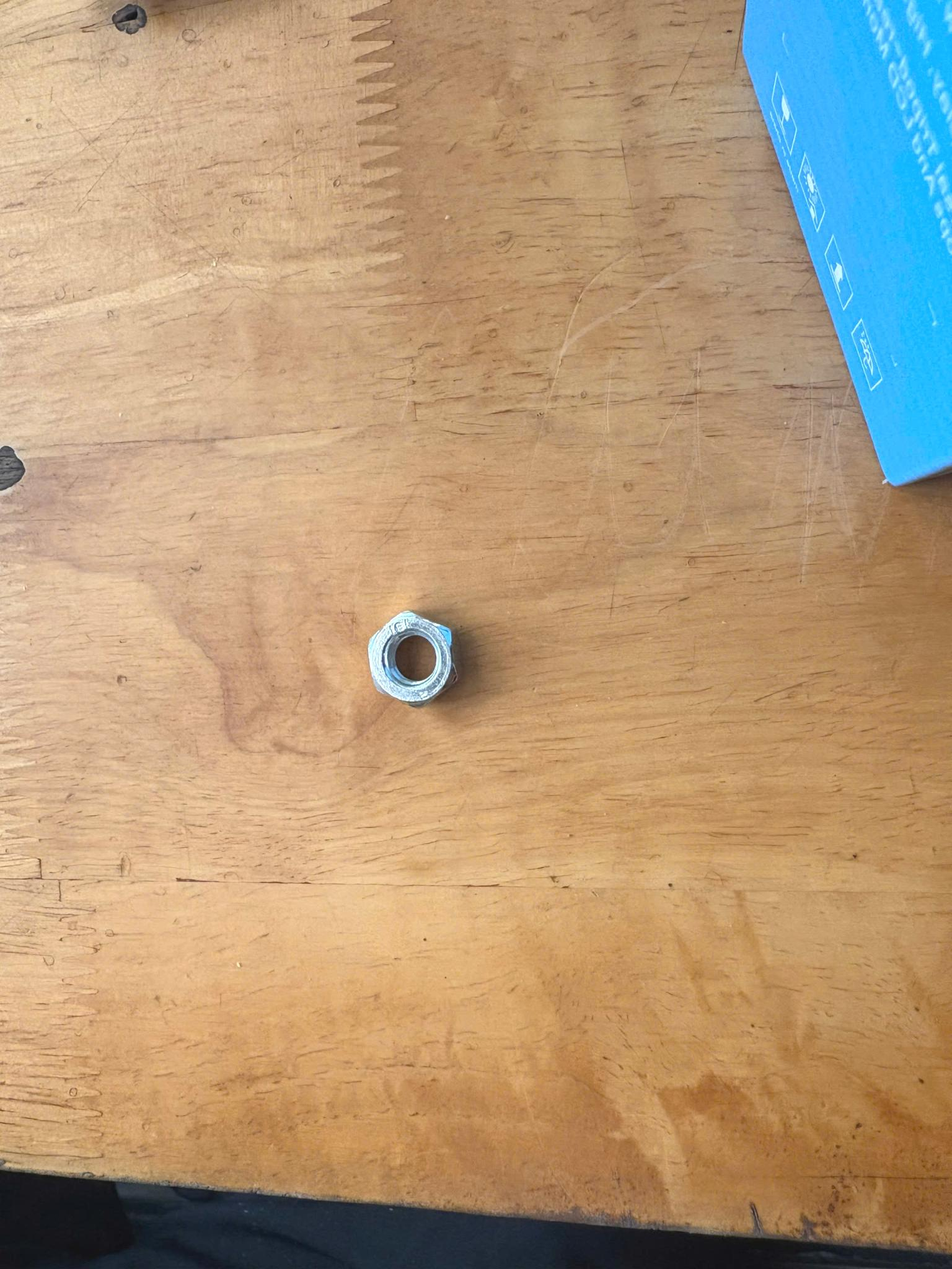nut: (345, 605, 471, 724)
